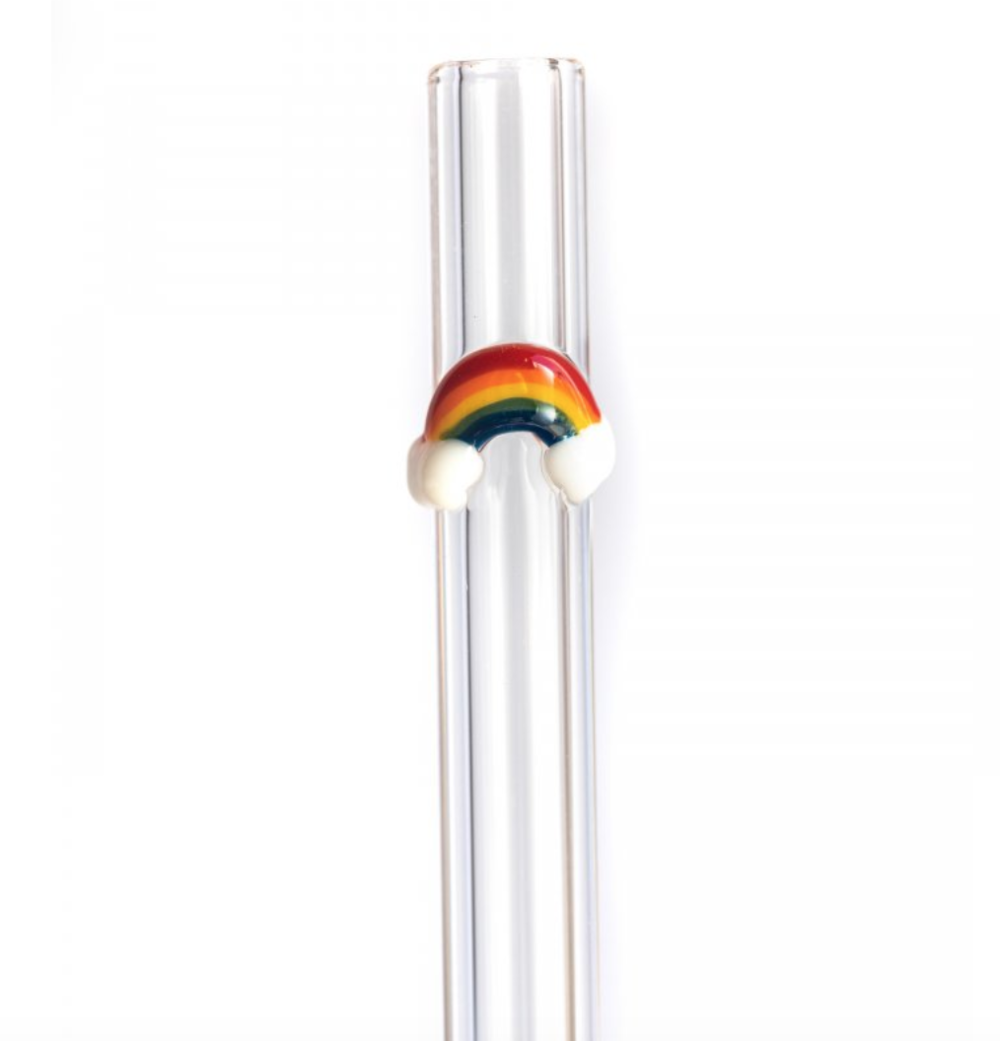Drinking Straw: (401, 51, 622, 1041)
